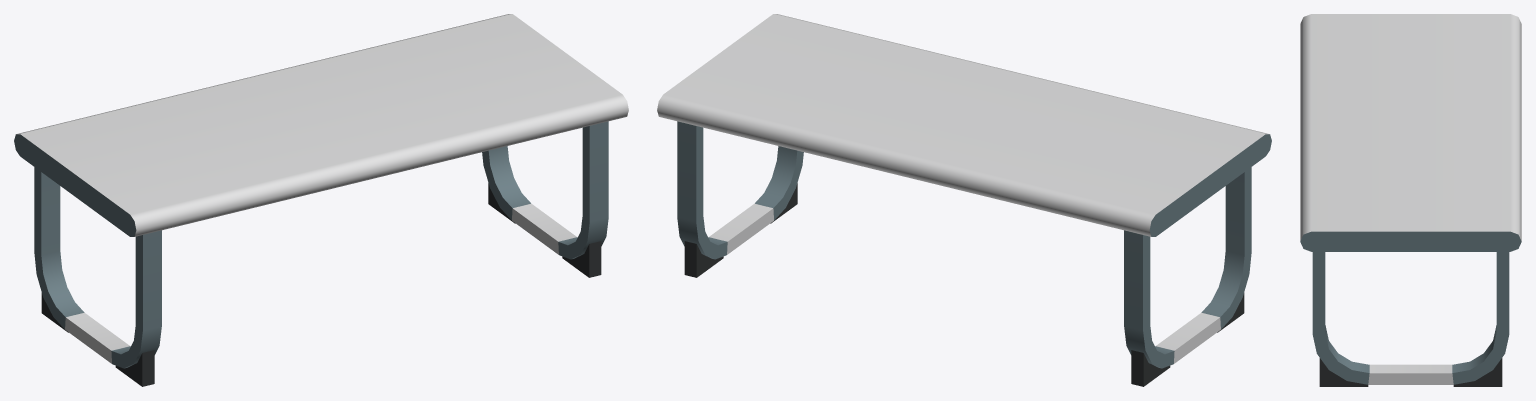
File: Desk_040.fbx
3 views of the same model, side by side, from view 1: azimuth 30°, elevation 25°; view 2: azimuth 150°, elevation 25°; view 3: azimuth 270°, elevation 25° (orthographic). The views are drawn at different scales.
Visible parts, largest first — view 1: Desk_040; view 2: Desk_040; view 3: Desk_040.
Part boxes in pixels (x1=…): Desk_040: x1=14, y1=14, x2=628, y2=386; Desk_040: x1=657, y1=14, x2=1271, y2=386; Desk_040: x1=1300, y1=14, x2=1521, y2=386.
Bounding box in the file's own units: 244 × 105 × 85.23.
